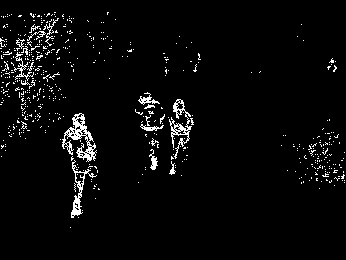person: (61, 110, 101, 221), (134, 89, 166, 173), (169, 97, 195, 178)
